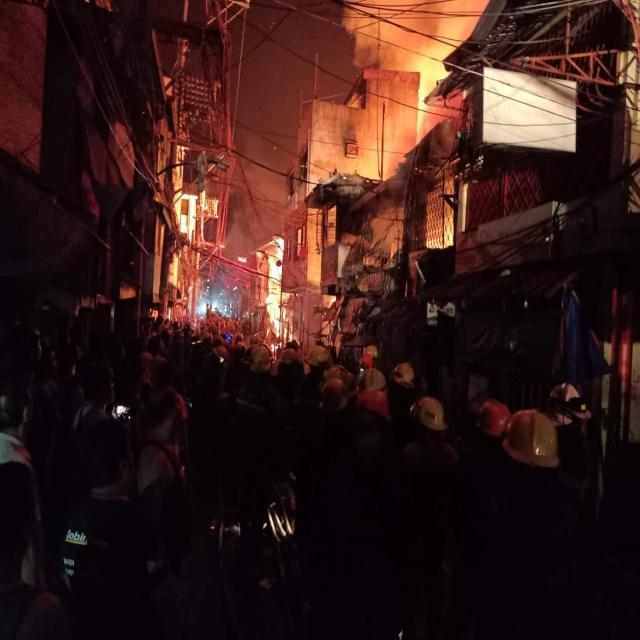Fire: (265, 238, 289, 337), (426, 228, 453, 252)
Smoke: (340, 0, 483, 134)
